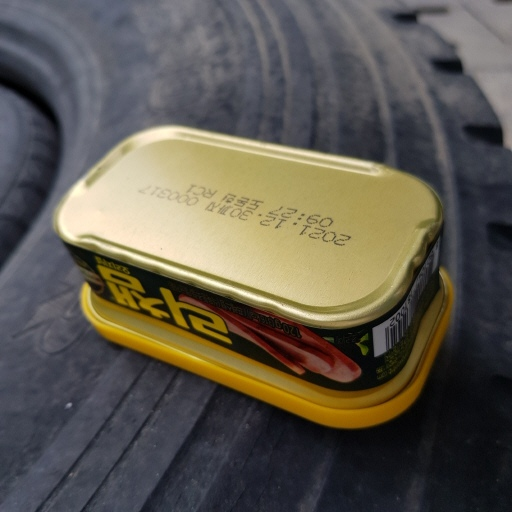Metal_2: (52, 124, 456, 429)
